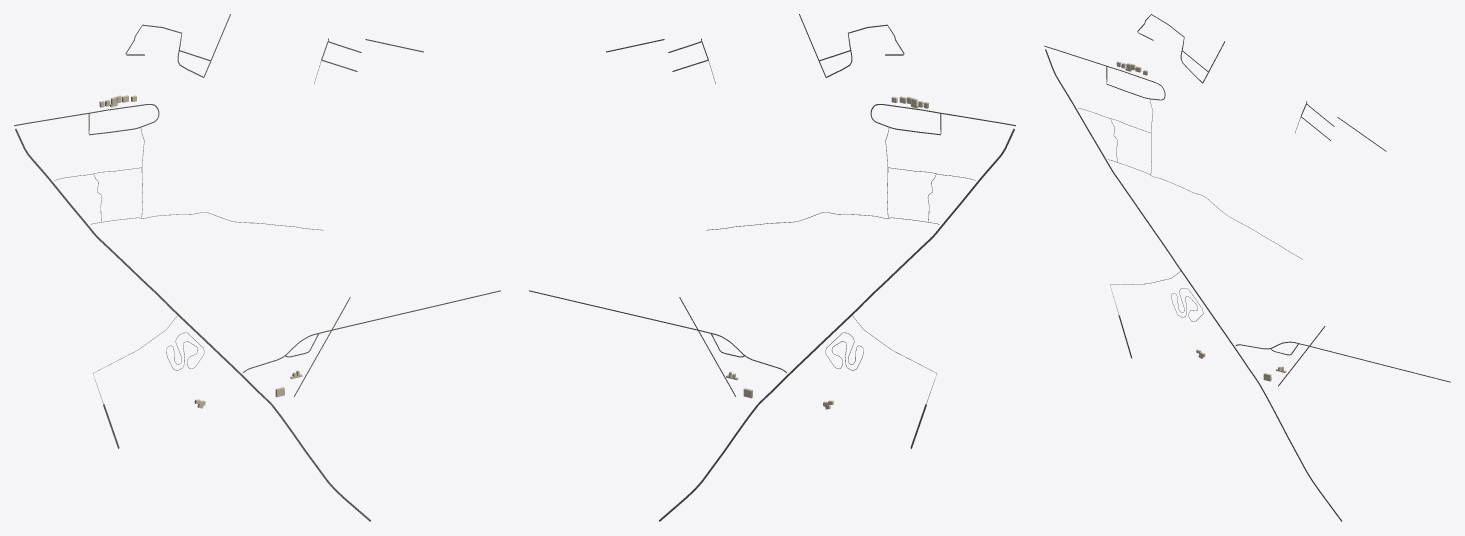
The model's file is historic-palestine-13_24_3547_3184.glb.
3 renders of one model, left to right at view 1: azimuth 30°, elevation 25°; view 2: azimuth 150°, elevation 25°; view 3: azimuth 330°, elevation 25°, orthographic. The views are drawn at different scales.
Parts seen in each view (by area): view 1: Road .007; view 2: Road .007; view 3: Road .007.
Part boxes in pixels (x1,y1,x2,y2): Road .007: [15, 128, 370, 521]; Road .007: [659, 128, 1014, 521]; Road .007: [1045, 49, 1342, 521].
Bounding box in the file's own units: 1510 × 1639 × 8.7.
